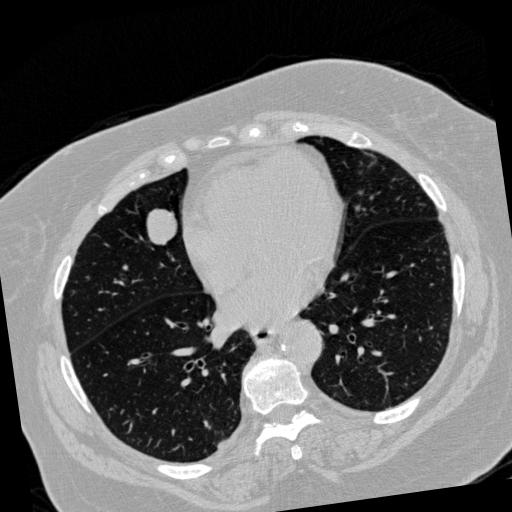nodule: (141, 206, 182, 247)
